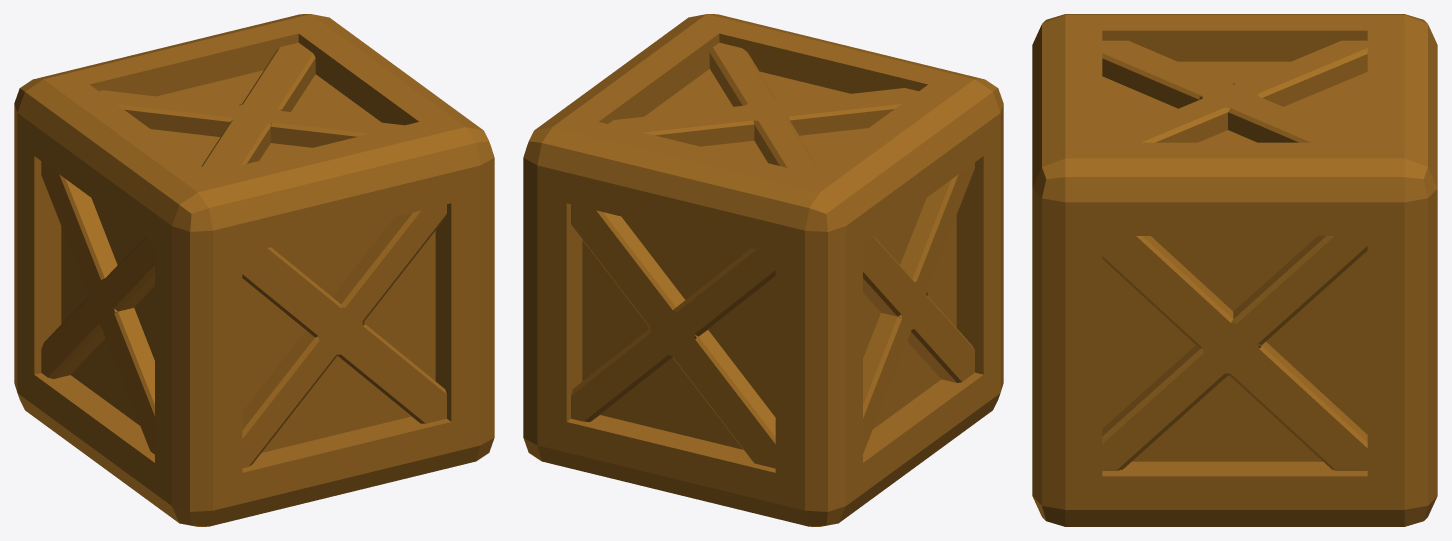
The model's file is Caja.fbx.
3 renders of one model, left to right at view 1: azimuth 30°, elevation 25°; view 2: azimuth 150°, elevation 25°; view 3: azimuth 270°, elevation 25°, orthographic. The views are drawn at different scales.
Visible parts, largest first — view 1: Cube, Cube.003, Cube.004, Cube.005; view 2: Cube, Cube.002, Cube.004, Cube.005; view 3: Cube, Cube.001, Cube.005.
Boxes of the visible parts, x1,y1,x2,y2 form: Cube: (14,14,494,526); Cube.003: (242,204,446,468); Cube.004: (41,161,154,454); Cube.005: (99,42,403,172); Cube: (523,14,1003,526); Cube.002: (571,204,775,468); Cube.004: (863,162,974,453); Cube.005: (608,42,918,172); Cube: (1032,14,1437,526); Cube.001: (1102,236,1367,470); Cube.005: (1102,40,1367,142).
Size of the model in its own units: 709 by 709 by 709.
